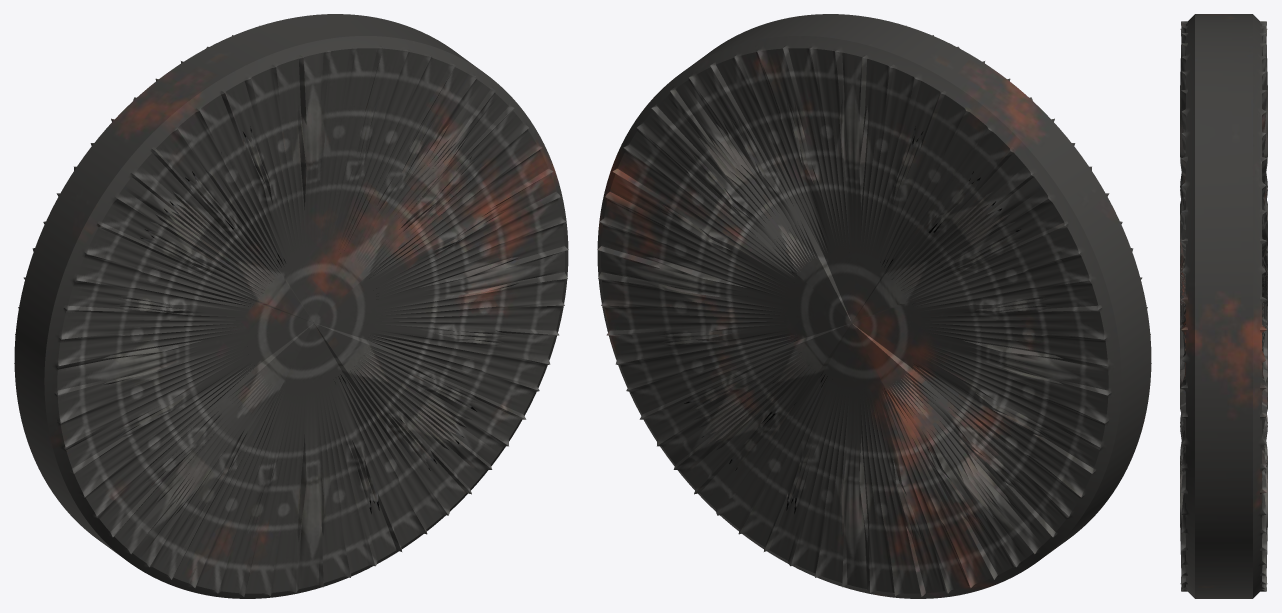
File: sun_stone.glb
3 views of the same model, side by side, from view 1: azimuth 30°, elevation 25°; view 2: azimuth 150°, elevation 25°; view 3: azimuth 270°, elevation 25° (orthographic). The views are drawn at different scales.
Parts seen in each view (by area): view 1: sun_stone; view 2: sun_stone; view 3: sun_stone.
Part boxes in pixels (x1,y1,x2,y2): sun_stone: [14, 14, 568, 598]; sun_stone: [597, 14, 1151, 598]; sun_stone: [1180, 14, 1267, 598].
Bounding box in the file's own units: 0.5978 × 0.5978 × 0.0896.
1 material, 1 textured.
